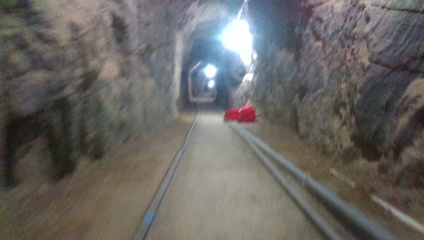backpack: (223, 106, 256, 123)
